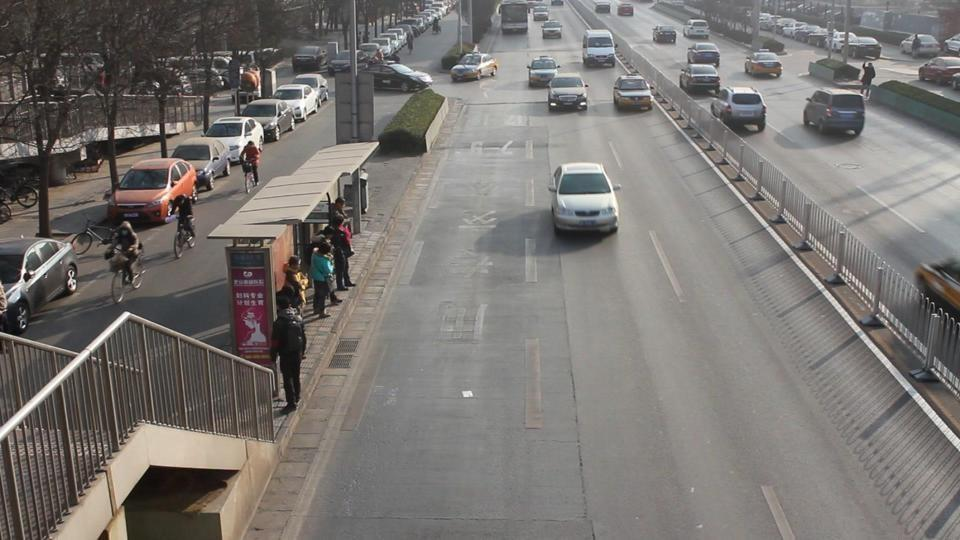car: (0, 235, 80, 334), (107, 157, 197, 224), (547, 162, 621, 234), (168, 137, 231, 189), (802, 88, 866, 137), (202, 117, 266, 163), (715, 87, 768, 133), (240, 98, 295, 142), (373, 62, 433, 92), (547, 73, 591, 112), (273, 83, 319, 120), (612, 75, 653, 113), (450, 53, 499, 83), (289, 73, 331, 107), (582, 29, 616, 68), (678, 64, 720, 95), (917, 57, 960, 86), (743, 49, 783, 78), (899, 32, 942, 58), (527, 54, 562, 85), (291, 45, 328, 72), (686, 43, 720, 71), (684, 19, 710, 40), (542, 18, 563, 39)
